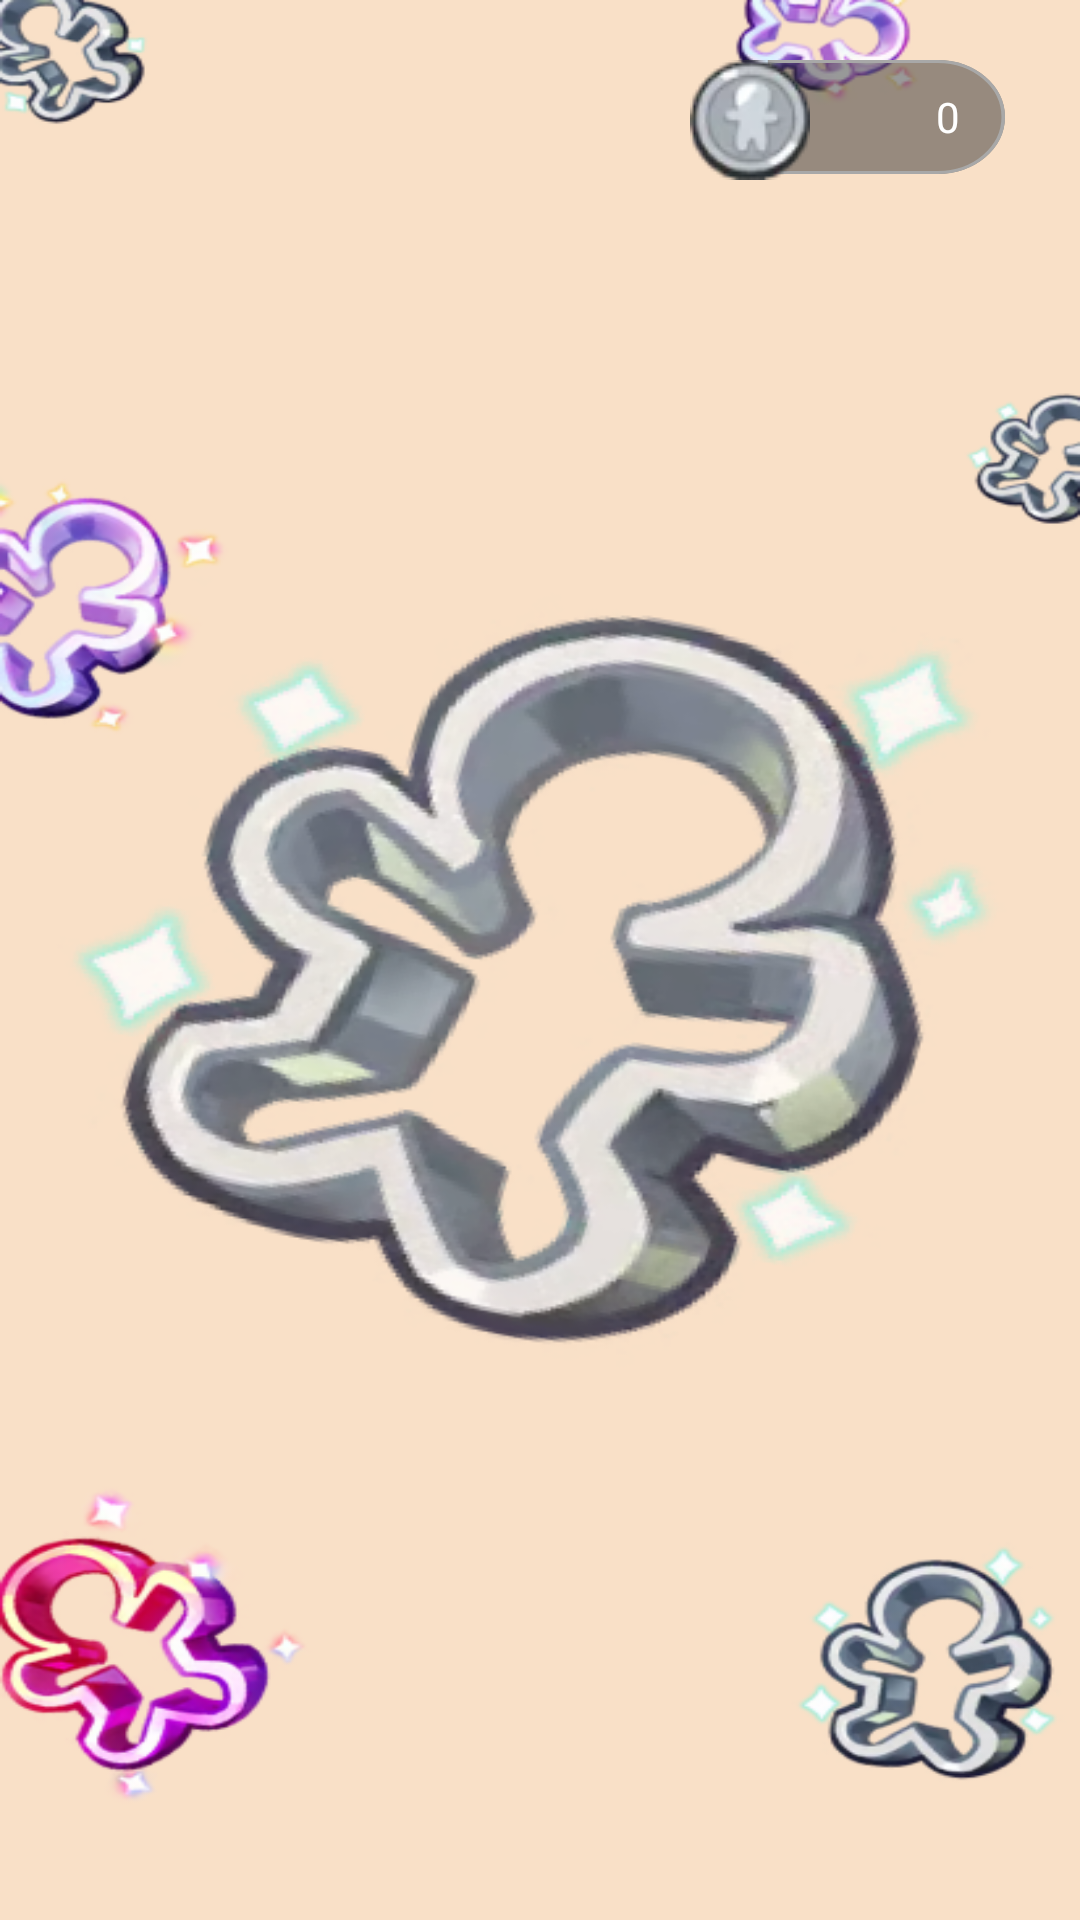

Icons on this 1080w x 1920h Android screen, each with the point to tap as (x=x, y=y):
silver coin: (x=750, y=120)
